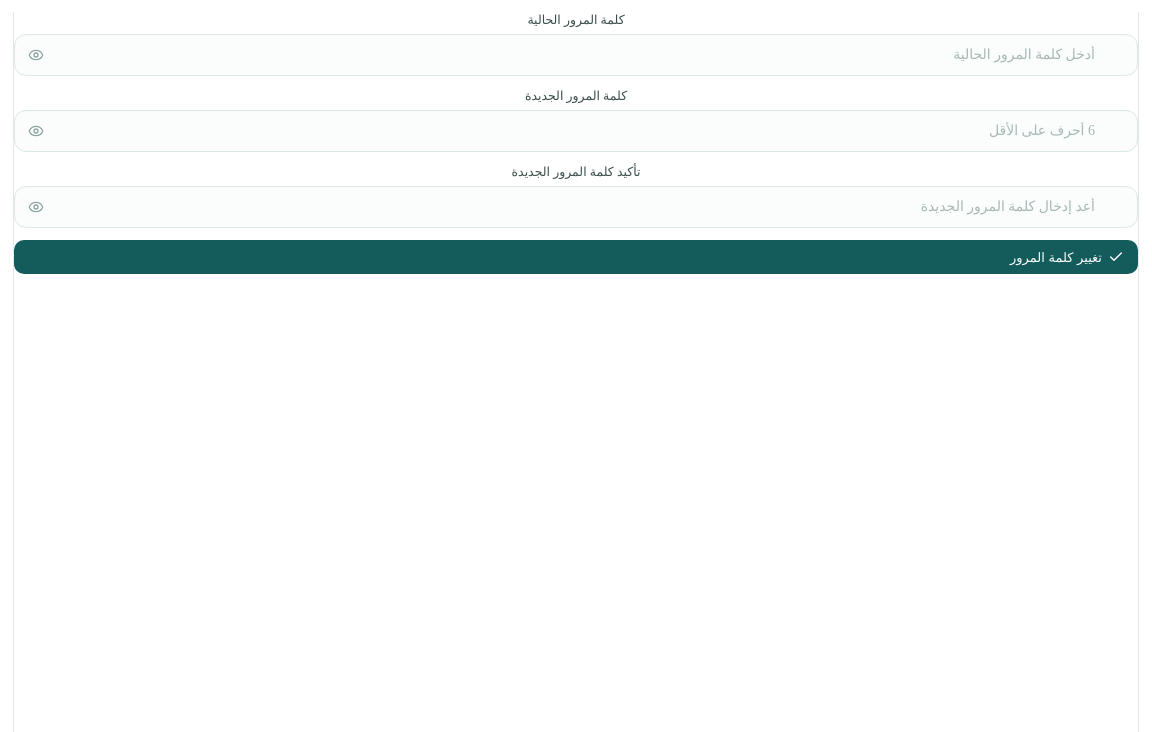
ChangePasswordForm — error handling › shows the rejection's message (e.g. wrong current password) and does not show success
Type "wrongpass" into the password field with placeholder "أدخل كلمة المرور الحالية". click: (576, 55)
box: x1=14 y1=34 x2=1138 y2=76
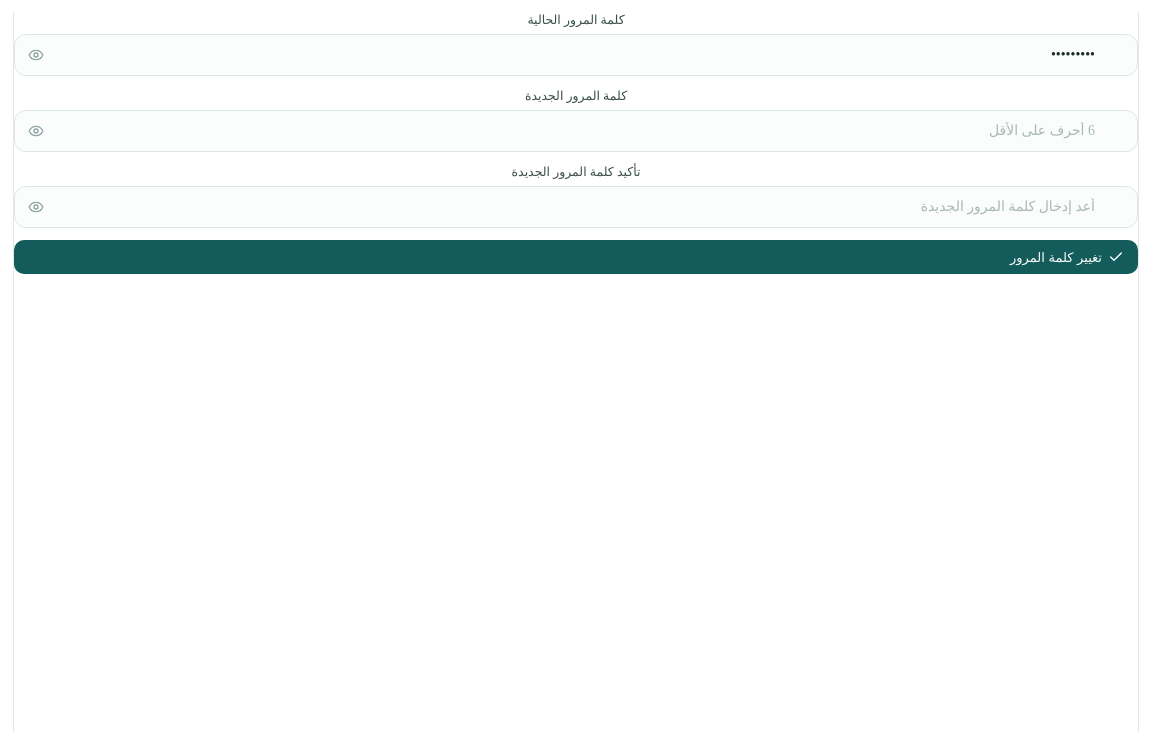
Type "newpass1" into the password field with placeholder "6 أحرف على الأقل". click: (576, 131)
box: x1=14 y1=110 x2=1138 y2=152
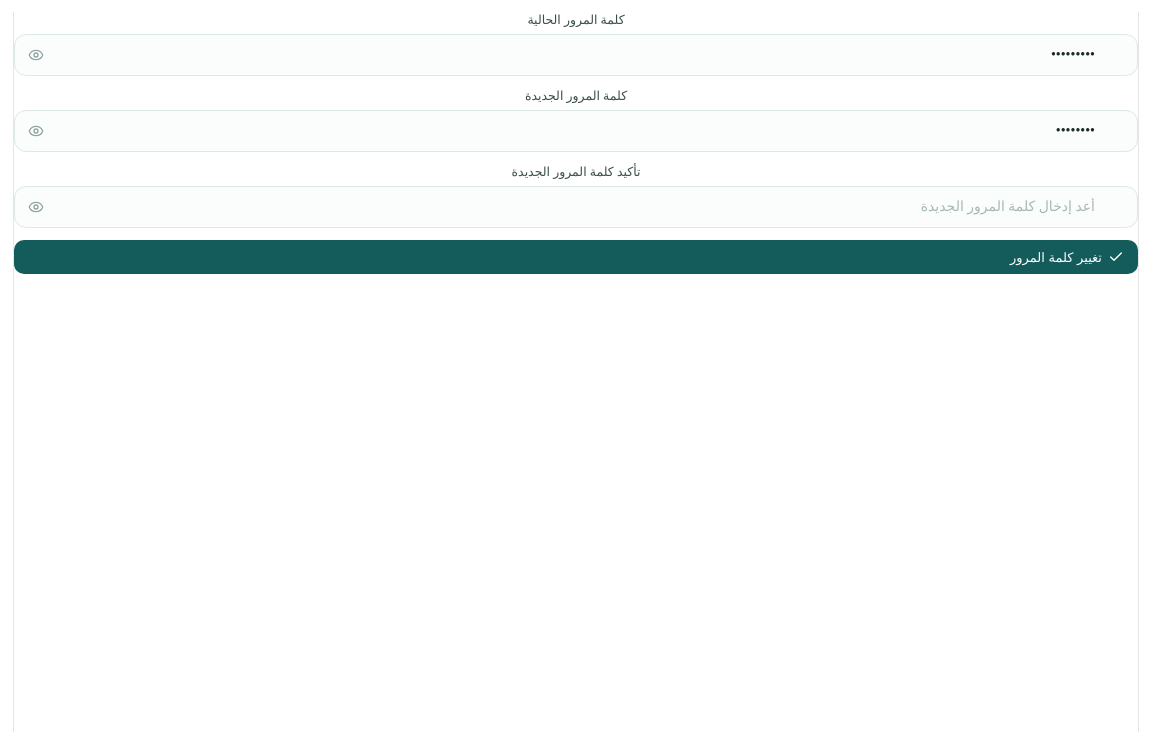
Type "newpass1" into the password field with placeholder "أعد إدخال كلمة المرور الجديدة". click: (576, 207)
box: x1=14 y1=186 x2=1138 y2=228
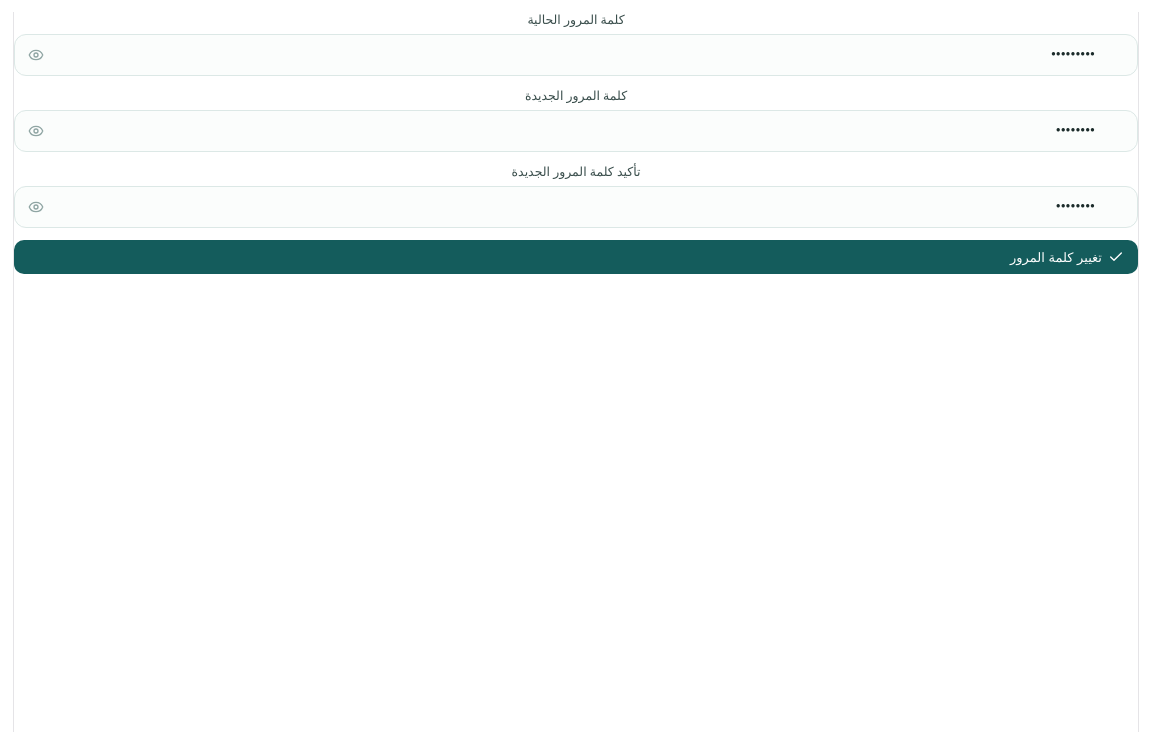
Click the button "تغيير كلمة المرور". click: click(1056, 257)
box: x1=14 y1=240 x2=1138 y2=274
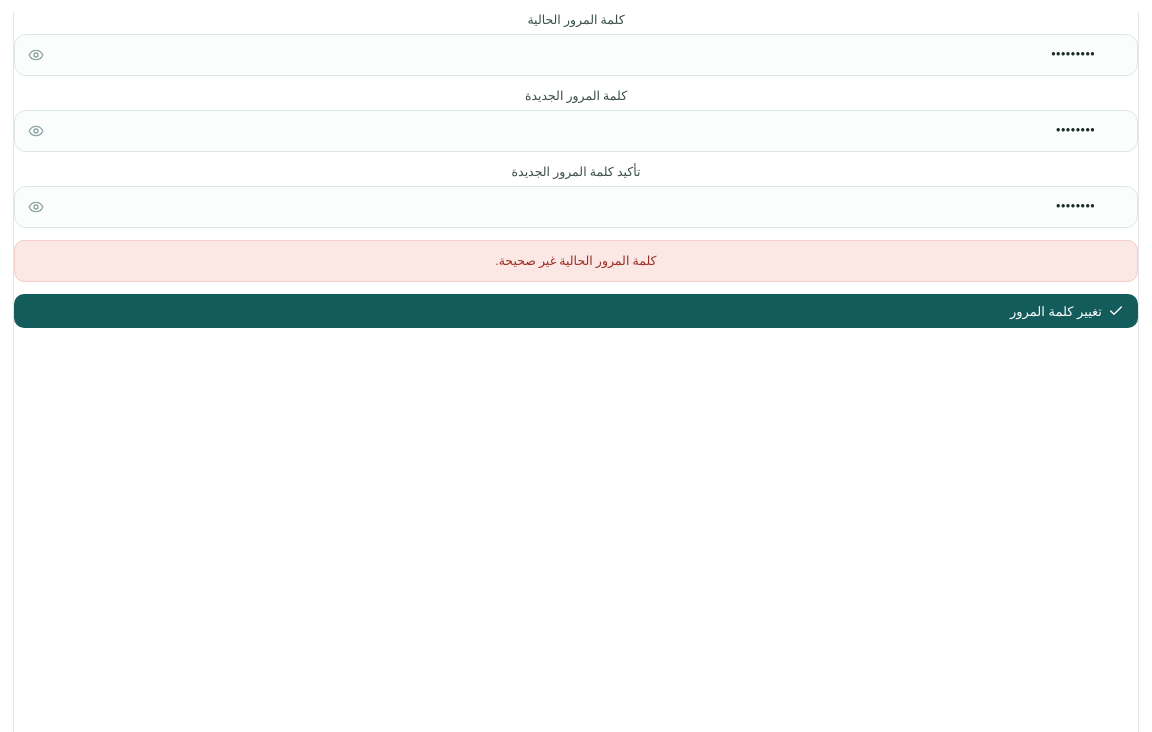
Expected: the text "كلمة المرور الحالية غير صحيحة." is shown, x1=14 y1=240 x2=1138 y2=282
